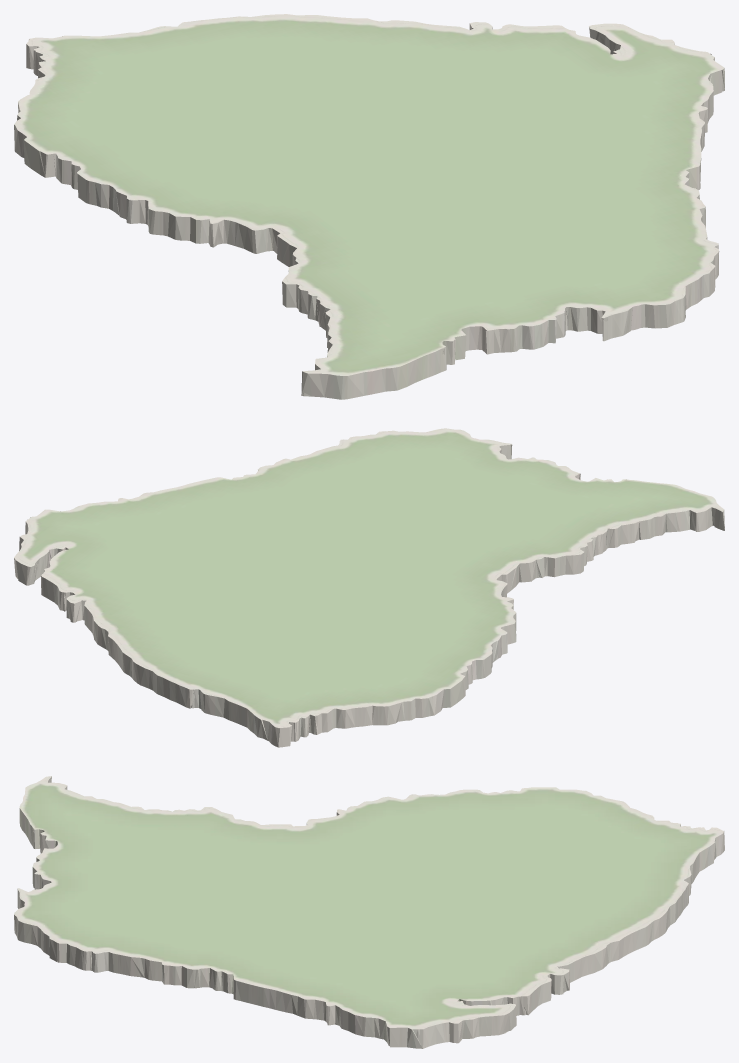
The model's file is guyane.glb.
3 views of the same model, one above another, from view 1: azimuth 30°, elevation 25°; view 2: azimuth 150°, elevation 25°; view 3: azimuth 270°, elevation 25° (orthographic). The views are drawn at different scales.
Parts seen in each view (by area): view 1: tripo_node_ba51423a-a236-48f7-90c3-73dc29b6ec8b; view 2: tripo_node_ba51423a-a236-48f7-90c3-73dc29b6ec8b; view 3: tripo_node_ba51423a-a236-48f7-90c3-73dc29b6ec8b.
Boxes of the visible parts, x1=… form: tripo_node_ba51423a-a236-48f7-90c3-73dc29b6ec8b: x1=14, y1=14, x2=724, y2=399; tripo_node_ba51423a-a236-48f7-90c3-73dc29b6ec8b: x1=14, y1=428, x2=724, y2=747; tripo_node_ba51423a-a236-48f7-90c3-73dc29b6ec8b: x1=14, y1=776, x2=724, y2=1048.
Bounding box in the file's own units: 0.8461 × 0.03 × 1.
1 material, 1 textured.
